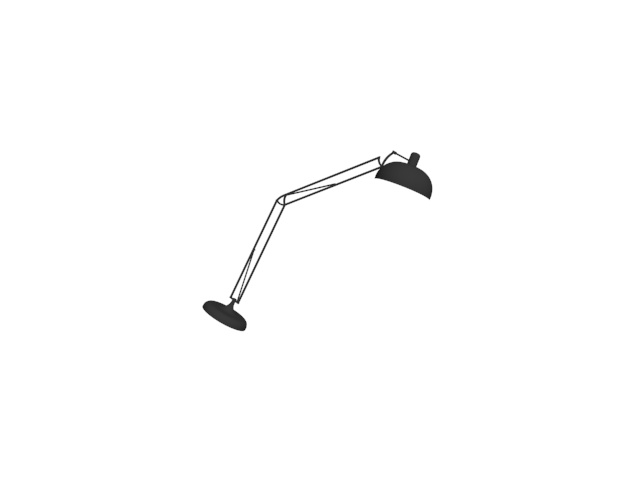desk_lamp: (201, 145, 440, 336)
